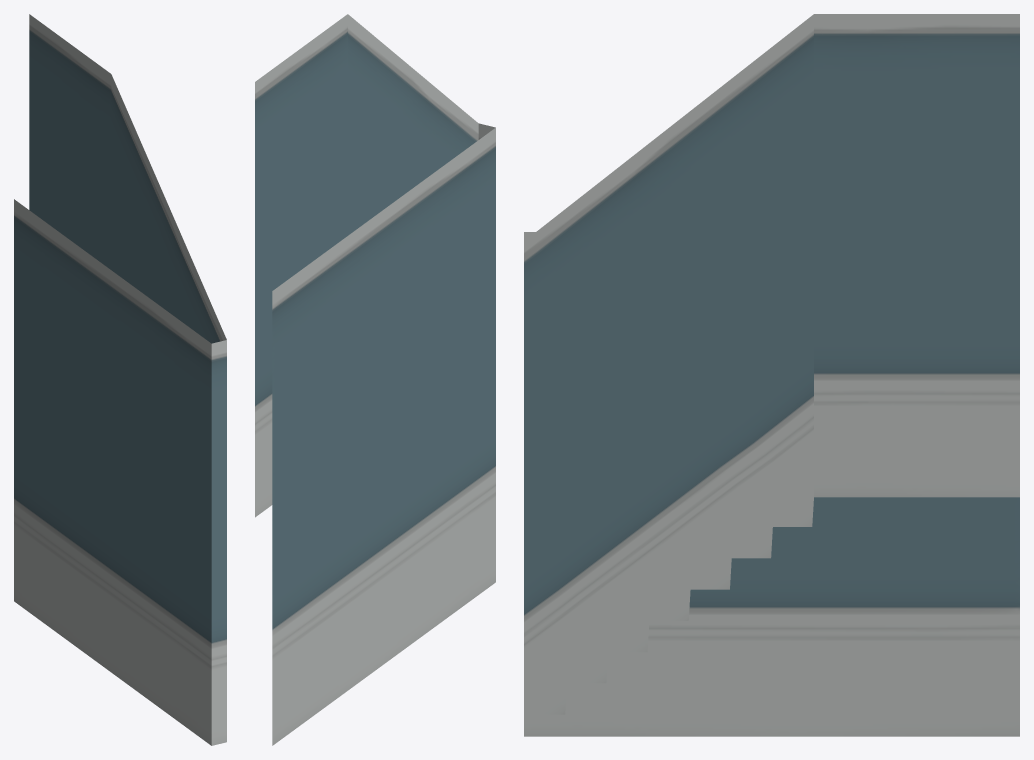
Rendered from SM_Bld_House_Interior_StairsWall_02.fbx.
3 views of the same model, side by side, from view 1: azimuth 30°, elevation 25°; view 2: azimuth 150°, elevation 25°; view 3: azimuth 270°, elevation 25° (orthographic). The views are drawn at different scales.
Visible parts, largest first — view 1: SM_Bld_House_Interior_StairsWall_02; view 2: SM_Bld_House_Interior_StairsWall_02; view 3: SM_Bld_House_Interior_StairsWall_02.
Part boxes in pixels (x1,y1,x2,y2): SM_Bld_House_Interior_StairsWall_02: (14, 14, 226, 745); SM_Bld_House_Interior_StairsWall_02: (255, 14, 495, 745); SM_Bld_House_Interior_StairsWall_02: (524, 14, 1019, 736).
Bounding box in the file's own units: 11.22 × 407 × 250.
